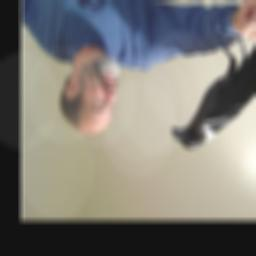Crow: (170, 26, 256, 154)
